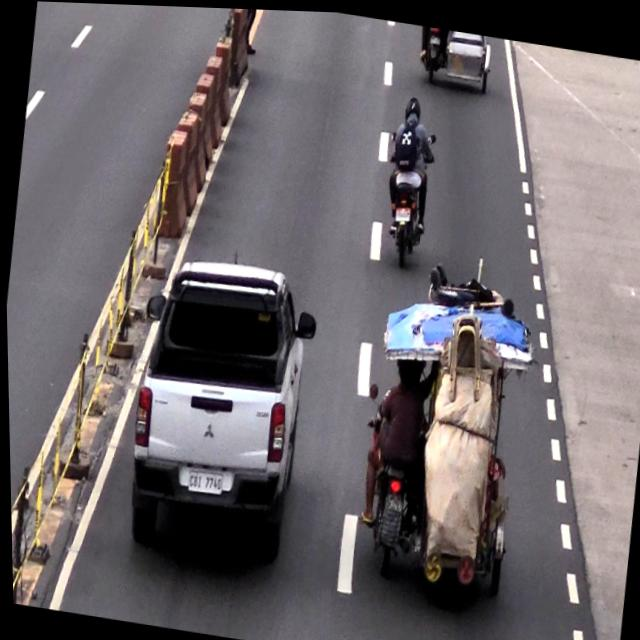Car: (122, 249, 315, 563)
License-Plate: (183, 464, 222, 497), (392, 201, 412, 221)
Motorcycle: (378, 90, 436, 262)
Tricycle: (347, 267, 533, 601)
